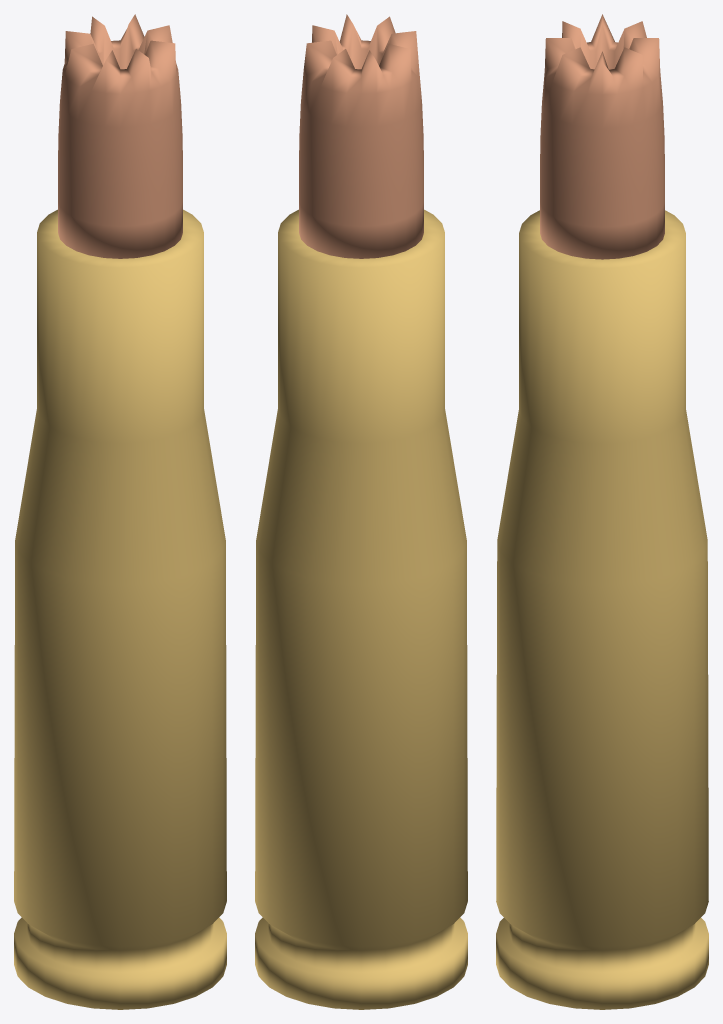
3 views of the same model, side by side, from view 1: azimuth 30°, elevation 25°; view 2: azimuth 150°, elevation 25°; view 3: azimuth 270°, elevation 25° (orthographic).
Parts seen in each view (by area): view 1: vaina, bala_flor; view 2: vaina, bala_flor; view 3: vaina, bala_flor.
Part boxes in pixels (left/top/right/bottom): vaina: left=14, top=209, right=226, bottom=1009; bala_flor: left=58, top=14, right=182, bottom=258; vaina: left=255, top=209, right=467, bottom=1009; bala_flor: left=299, top=14, right=423, bottom=258; vaina: left=496, top=210, right=708, bottom=1009; bala_flor: left=540, top=14, right=664, bottom=259.
Size of the model in its own units: 0.0079 by 0.038 by 0.0079.
